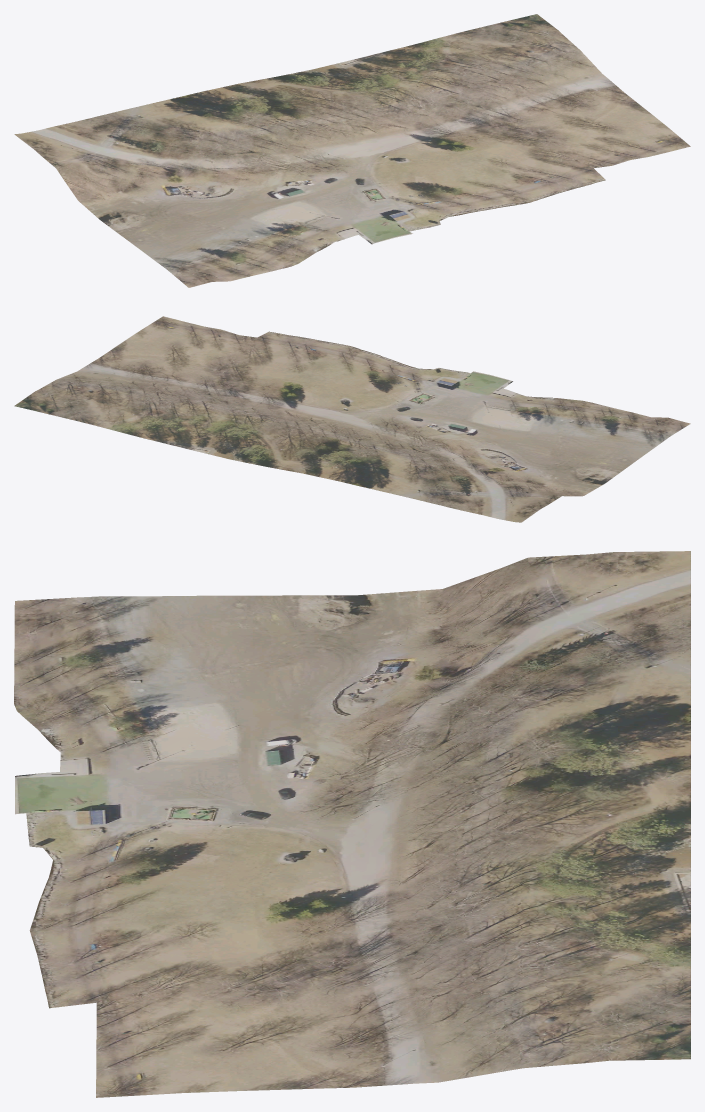
File: CM_Terrain_24486773_6819999.fbx
The picture shows the model from 3 angles, top to bottom: view 1: azimuth 30°, elevation 25°; view 2: azimuth 150°, elevation 25°; view 3: azimuth 270°, elevation 25°; orthographic projection. The views are drawn at different scales.
Visible parts, largest first — view 1: CM_Terrain_24486773_6819999_LOD0; view 2: CM_Terrain_24486773_6819999_LOD0; view 3: CM_Terrain_24486773_6819999_LOD0.
Boxes of the visible parts, x1,y1,x2,y2 form: CM_Terrain_24486773_6819999_LOD0: (14,14,690,287); CM_Terrain_24486773_6819999_LOD0: (14,316,690,522); CM_Terrain_24486773_6819999_LOD0: (14,551,690,1097).
Size of what is drawn, in the model's own units: 205 by 10.97 by 119.
